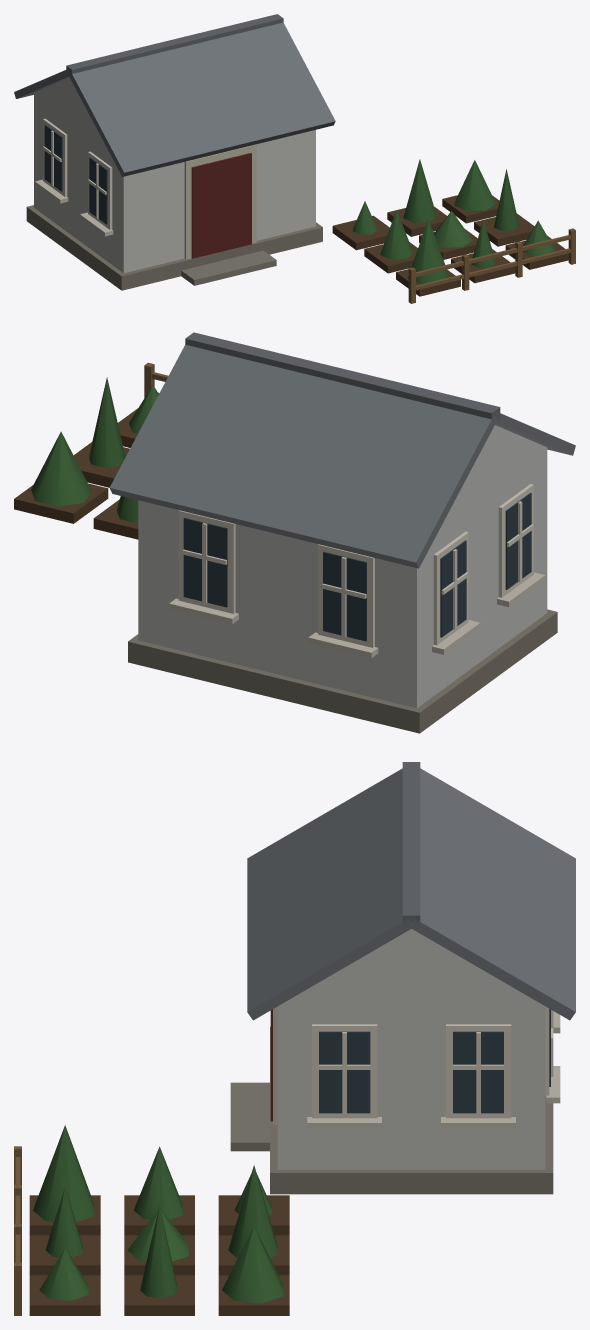
The model's file is procedural_forester@6.glb.
The picture shows the model from 3 angles, top to bottom: view 1: azimuth 30°, elevation 25°; view 2: azimuth 150°, elevation 25°; view 3: azimuth 270°, elevation 25°; orthographic projection. The views are drawn at different scales.
Parts seen in each view (by area): view 1: part_0; view 2: part_0; view 3: part_0.
Boxes of the visible parts, x1,y1,x2,y2 form: part_0: [14, 14, 575, 303]; part_0: [14, 332, 575, 733]; part_0: [14, 762, 575, 1315].
Size of the model in its own units: 8.16 by 3.96 by 7.14.
